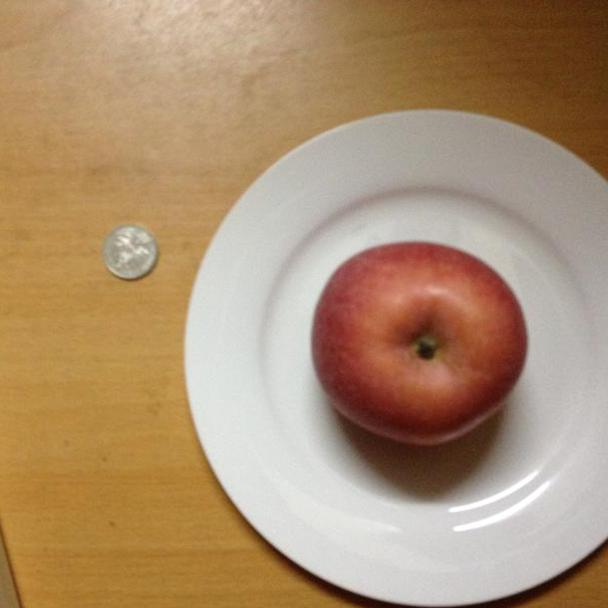apple: (311, 243, 535, 446)
